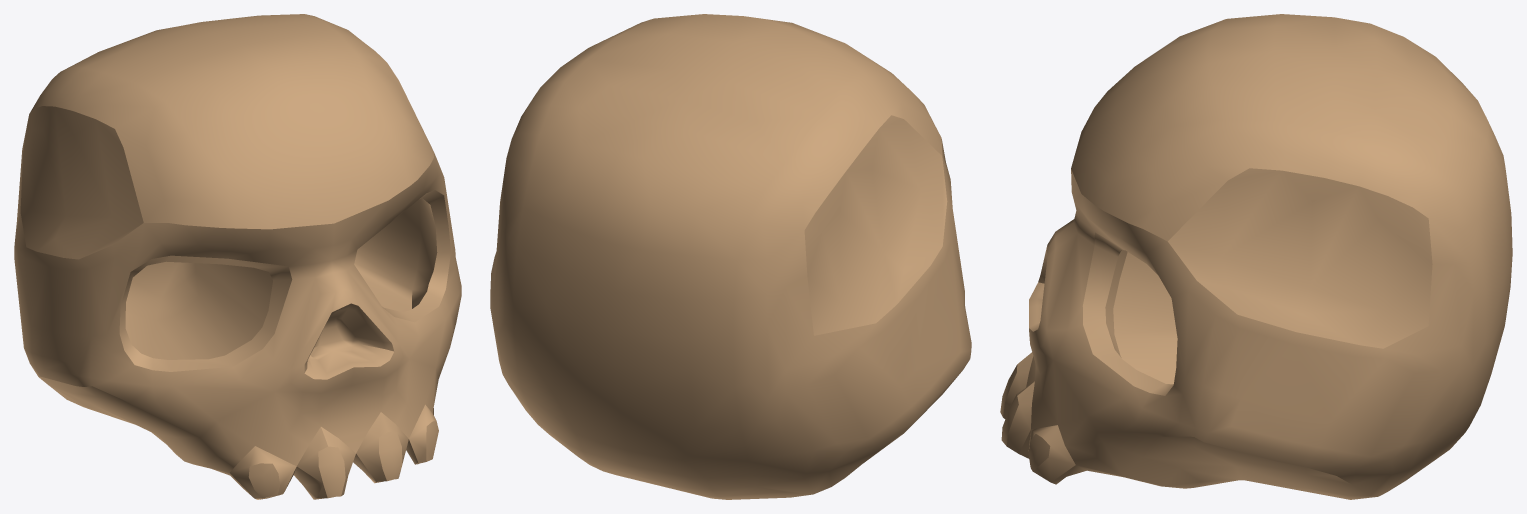
Rendered from Environment_Skulls.gltf.
3 renders of one model, left to right at view 1: azimuth 30°, elevation 25°; view 2: azimuth 150°, elevation 25°; view 3: azimuth 270°, elevation 25°, orthographic. The views are drawn at different scales.
Visible parts, largest first — view 1: Environment_Skulls; view 2: Environment_Skulls; view 3: Environment_Skulls.
Part boxes in pixels (x1,y1,x2,y2): Environment_Skulls: (14,14,461,499); Environment_Skulls: (490,14,971,499); Environment_Skulls: (1000,14,1512,499).
Size of the model in its own units: 4.13 by 3.8 by 4.44.
Materials: 1 (1 with a texture image).
